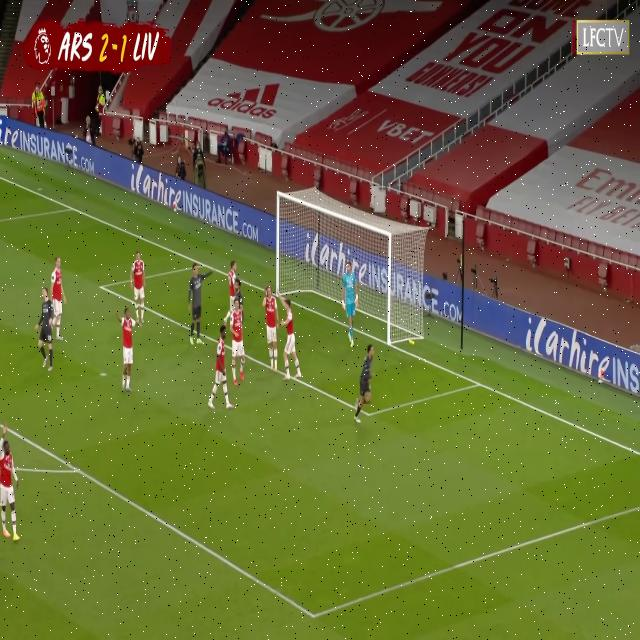GoalKeeper: (340, 262, 359, 343)
TEAM 1: (0, 434, 22, 546), (207, 324, 229, 409), (282, 296, 300, 388), (230, 298, 246, 389), (264, 286, 280, 376), (121, 306, 137, 394), (51, 251, 67, 337), (130, 251, 146, 319), (227, 251, 236, 303)
TEAM 2: (36, 292, 57, 371), (356, 346, 377, 424), (189, 265, 206, 349)
